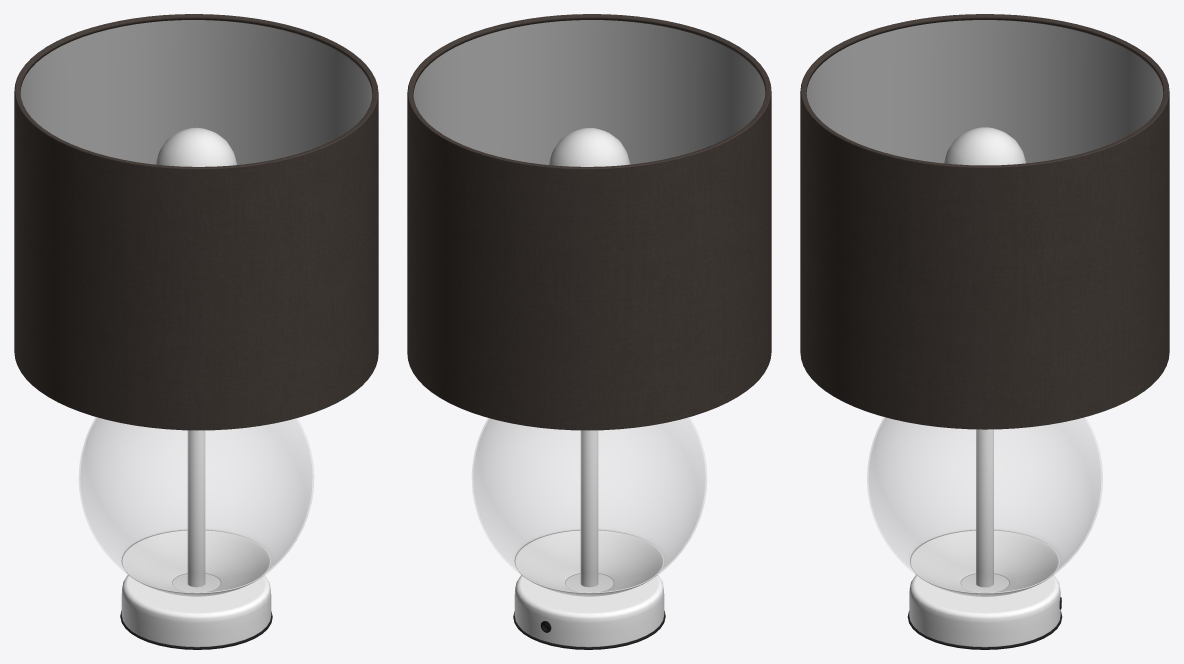
File: iridescence_lamp.glb
3 views of the same model, side by side, from view 1: azimuth 30°, elevation 25°; view 2: azimuth 150°, elevation 25°; view 3: azimuth 270°, elevation 25° (orthographic).
Visible parts, largest first — view 1: lamp, lamp_iridescence, lamp_transmission; view 2: lamp, lamp_iridescence, lamp_transmission; view 3: lamp, lamp_iridescence, lamp_transmission.
Part boxes in pixels (<box>): lamp: <box>14,14,378,649</box>; lamp_iridescence: <box>20,20,372,164</box>; lamp_transmission: <box>79,417,313,592</box>; lamp: <box>407,14,771,649</box>; lamp_iridescence: <box>413,20,765,164</box>; lamp_transmission: <box>472,417,706,592</box>; lamp: <box>800,14,1169,649</box>; lamp_iridescence: <box>806,20,1163,163</box>; lamp_transmission: <box>867,417,1102,592</box>.
Size of the model in its own units: 0.2973 by 0.4761 by 0.3019.
Materials: 3 (3 with a texture image).
